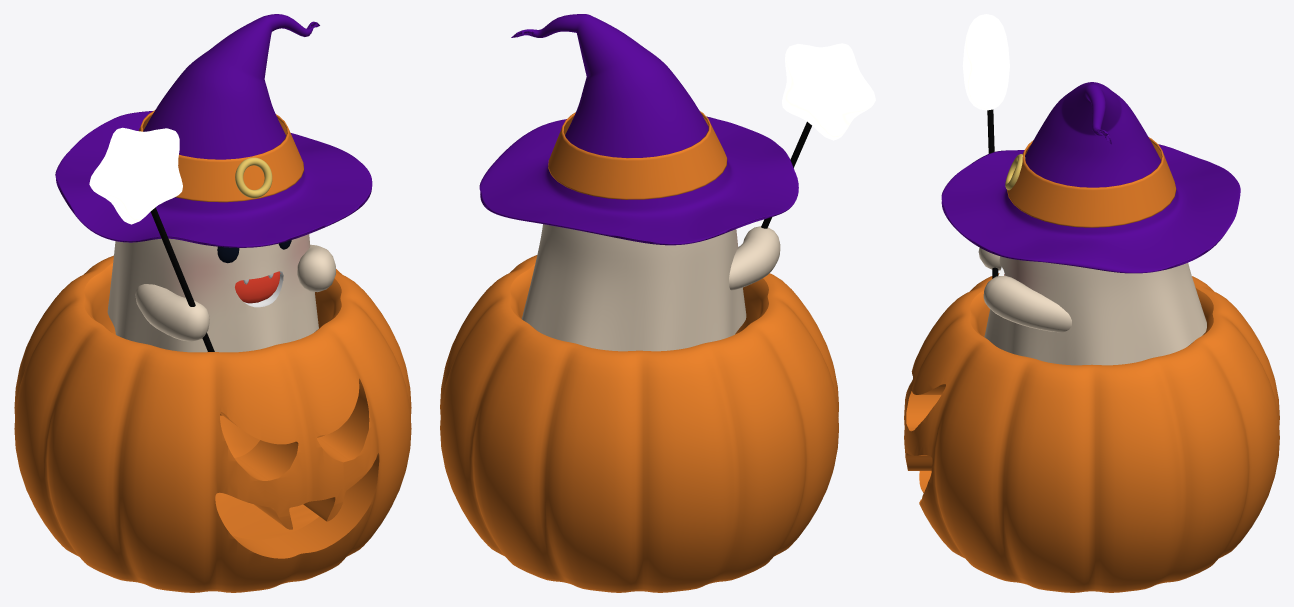
The model's file is ghost.fbx.
3 renders of one model, left to right at view 1: azimuth 30°, elevation 25°; view 2: azimuth 150°, elevation 25°; view 3: azimuth 270°, elevation 25°, orthographic. The views are drawn at different scales.
Parts seen in each view (by area): view 1: 柱体, 圆环, body, Star, 圆环.001, 立方体.004, 立方体.003, 立方体.001, 柱体.001, 环体; view 2: 柱体, 圆环, body, 圆环.001, Star, 立方体.004; view 3: 柱体, 圆环, body, 圆环.001, Star, 立方体.003.
Part boxes in pixels (<box>): 柱体: <box>14,255,411,592</box>; 圆环: <box>55,14,372,247</box>; body: <box>107,234,318,352</box>; Star: <box>89,127,182,224</box>; 圆环.001: <box>138,110,304,202</box>; 立方体.004: <box>135,284,209,341</box>; 立方体.003: <box>297,244,335,292</box>; 立方体.001: <box>235,271,280,303</box>; 柱体.001: <box>150,207,214,351</box>; 环体: <box>235,157,272,198</box>; 柱体: <box>440,255,838,592</box>; 圆环: <box>479,14,798,245</box>; body: <box>521,224,746,351</box>; 圆环.001: <box>548,111,727,199</box>; Star: <box>782,43,875,140</box>; 立方体.004: <box>729,226,780,290</box>; 柱体: <box>904,273,1279,592</box>; 圆环: <box>941,82,1240,273</box>; body: <box>984,256,1206,365</box>; 圆环.001: <box>1007,137,1176,227</box>; Star: <box>962,14,1009,110</box>; 立方体.003: <box>983,275,1071,332</box>.
Bounding box in the file's own units: 385 × 537 × 379.
